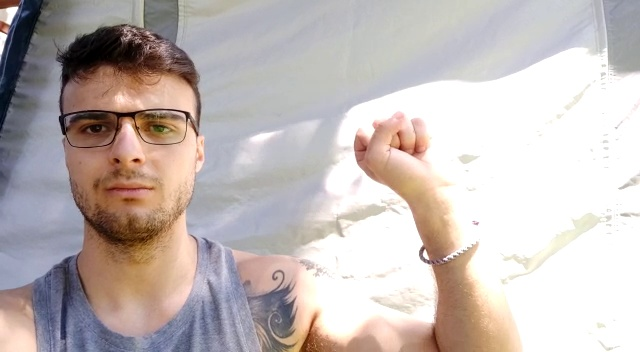Fist: (352, 110, 440, 196)
